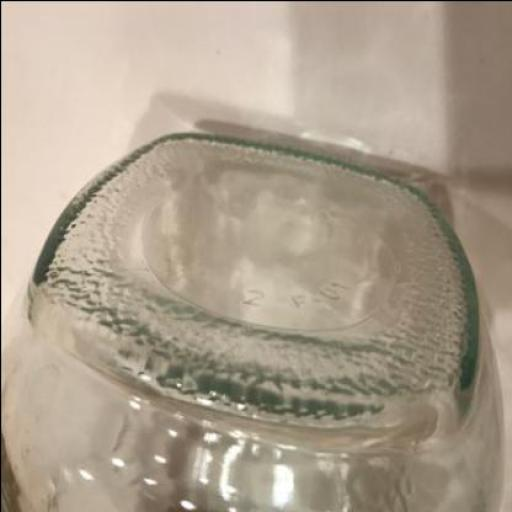glass: (1, 129, 502, 511)
